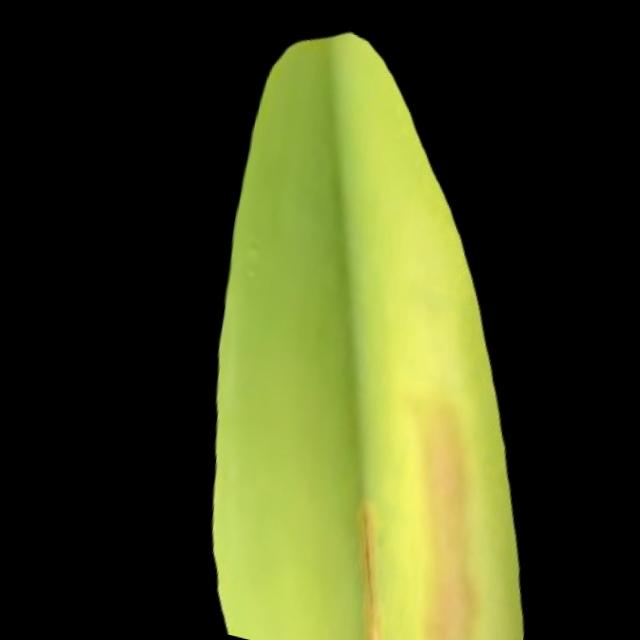mite: (160, 12, 636, 640), (408, 554, 481, 640), (216, 217, 278, 302), (227, 233, 264, 285), (234, 259, 259, 281)
sunburn: (364, 380, 512, 640)
